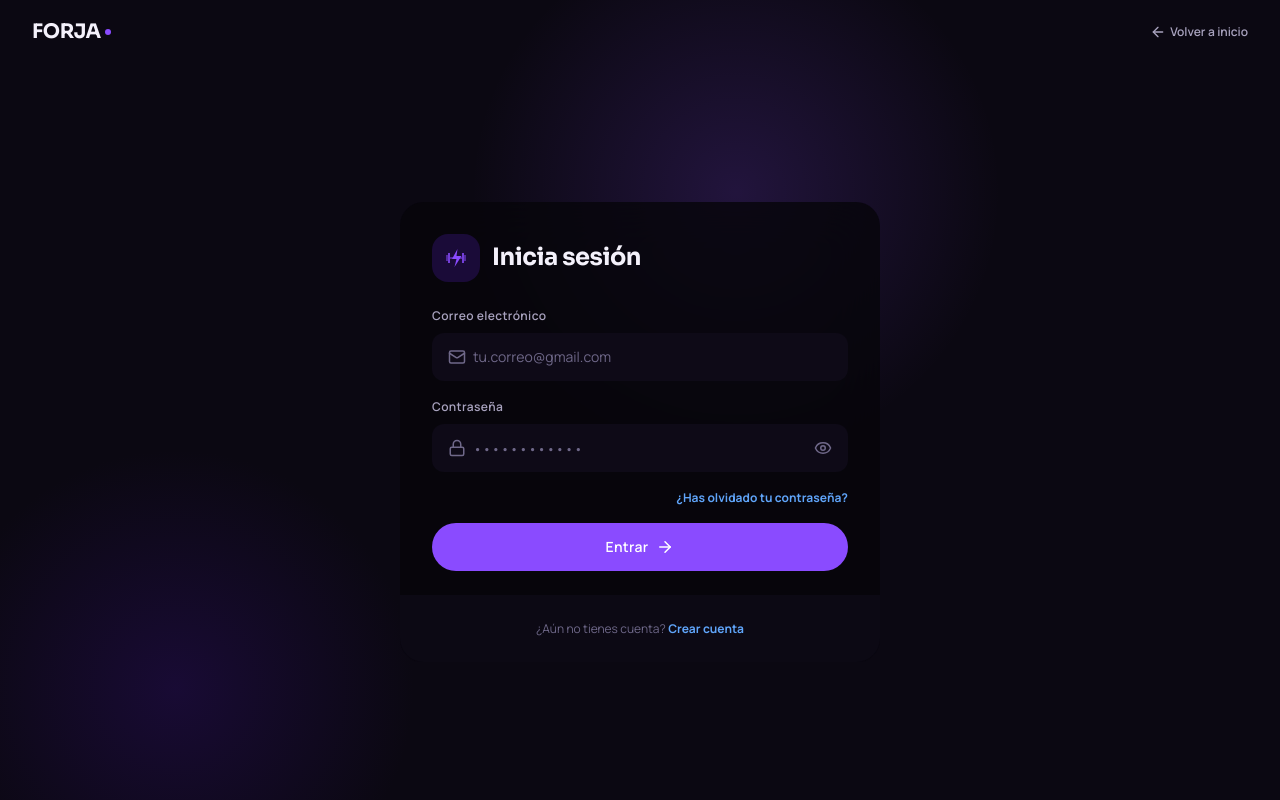
Test: LoginPage › shows a specific message for a deactivated account
In the field labelled "Correo electrónico": (640, 357) [432,333,848,381], type "inactive@forjafit.demo"
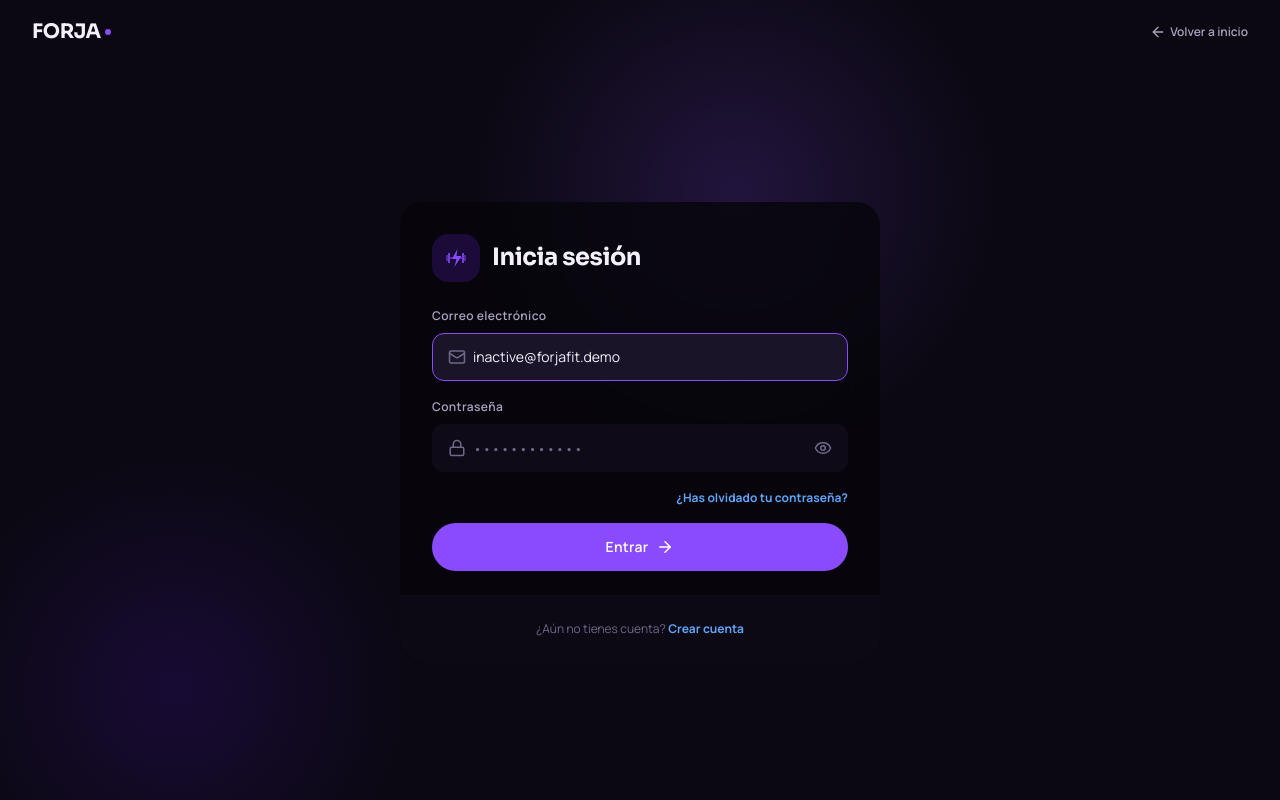
In the password field labelled "Contraseña": (640, 448) [432,424,848,472], type "inactive2026"
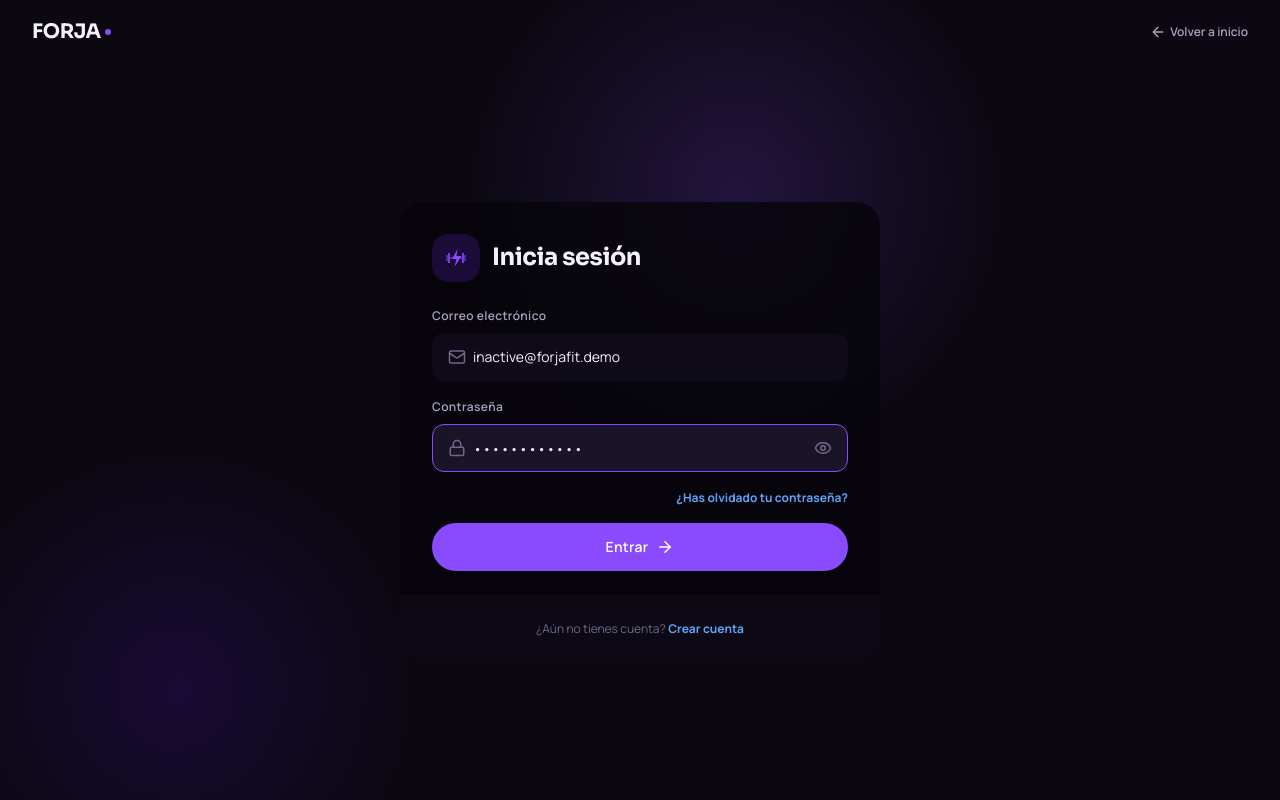
Click the button "Entrar": click(640, 547) [432,523,848,571]
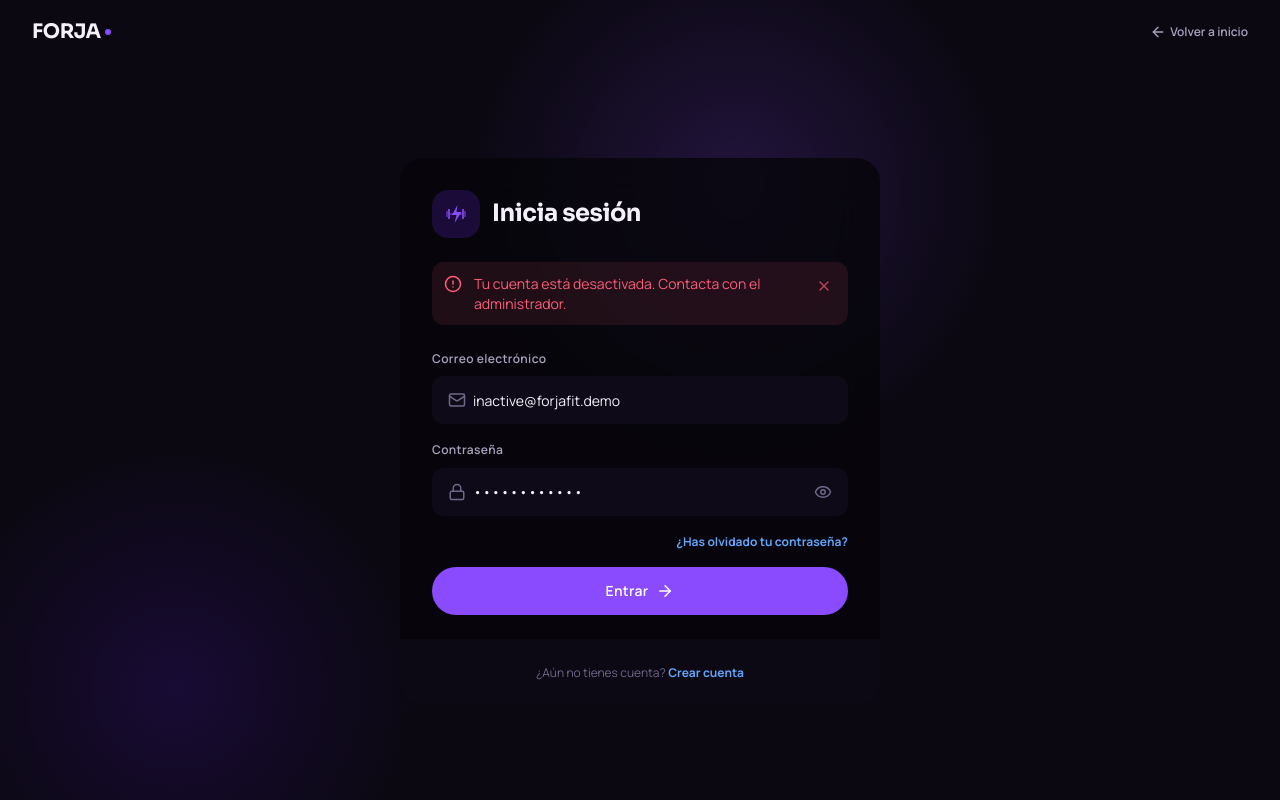
Check: the text "Tu cuenta está desactivada. Contacta con el administrador." is shown, box [474,274,800,313]
